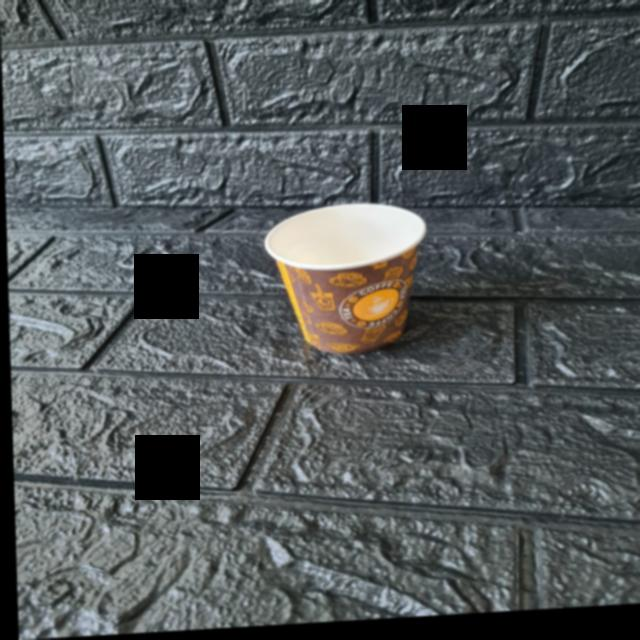cups: (260, 201, 436, 372)
